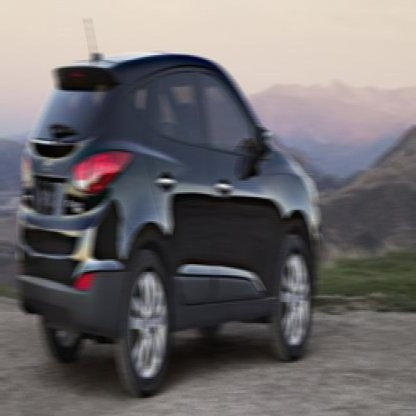Vehicle: (17, 13, 323, 406)
